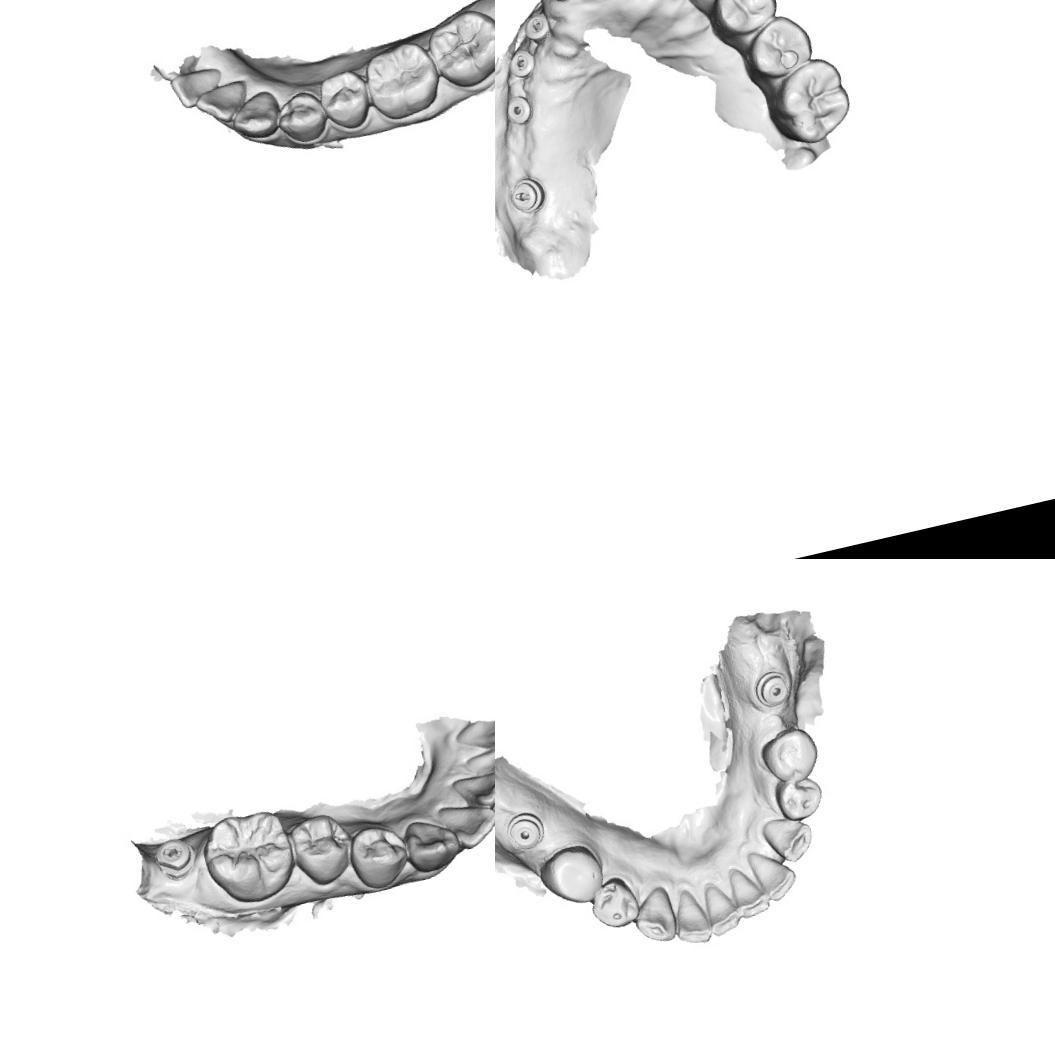canine: (398, 811, 466, 879), (226, 88, 287, 150), (758, 810, 820, 869), (627, 883, 681, 948)
implant: (502, 808, 548, 854), (750, 666, 794, 712), (502, 92, 536, 128)
implant_minus: (504, 175, 550, 218), (152, 834, 195, 878), (520, 10, 553, 48), (504, 46, 538, 81)
incisor: (434, 793, 495, 856), (744, 842, 801, 906), (192, 77, 255, 129), (666, 886, 714, 950), (166, 64, 228, 112), (726, 863, 772, 922), (700, 879, 744, 938), (447, 761, 495, 814), (460, 733, 495, 790)
molar: (194, 803, 303, 912), (762, 53, 858, 151), (359, 37, 446, 125), (422, 3, 495, 94)
premolar: (284, 808, 358, 890), (740, 8, 818, 84), (534, 840, 610, 912), (342, 820, 414, 894), (754, 722, 824, 790), (314, 66, 375, 135), (272, 86, 334, 149), (585, 872, 645, 934), (704, 0, 784, 42), (770, 774, 826, 825)
